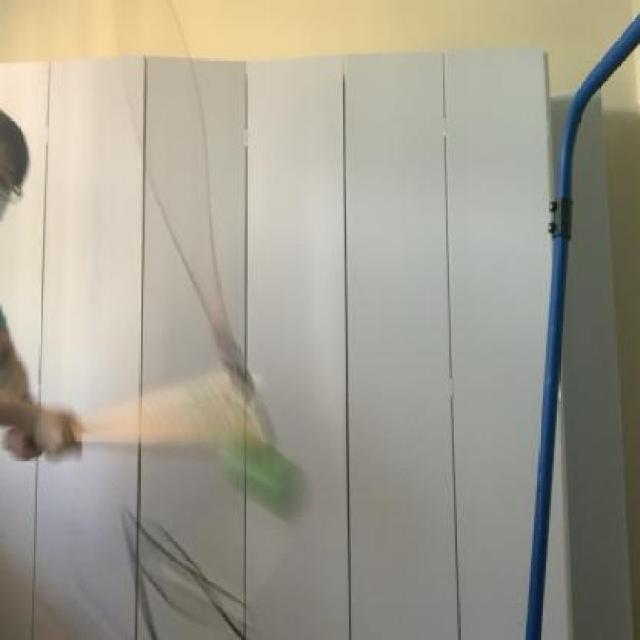baseball: (222, 430, 312, 516)
